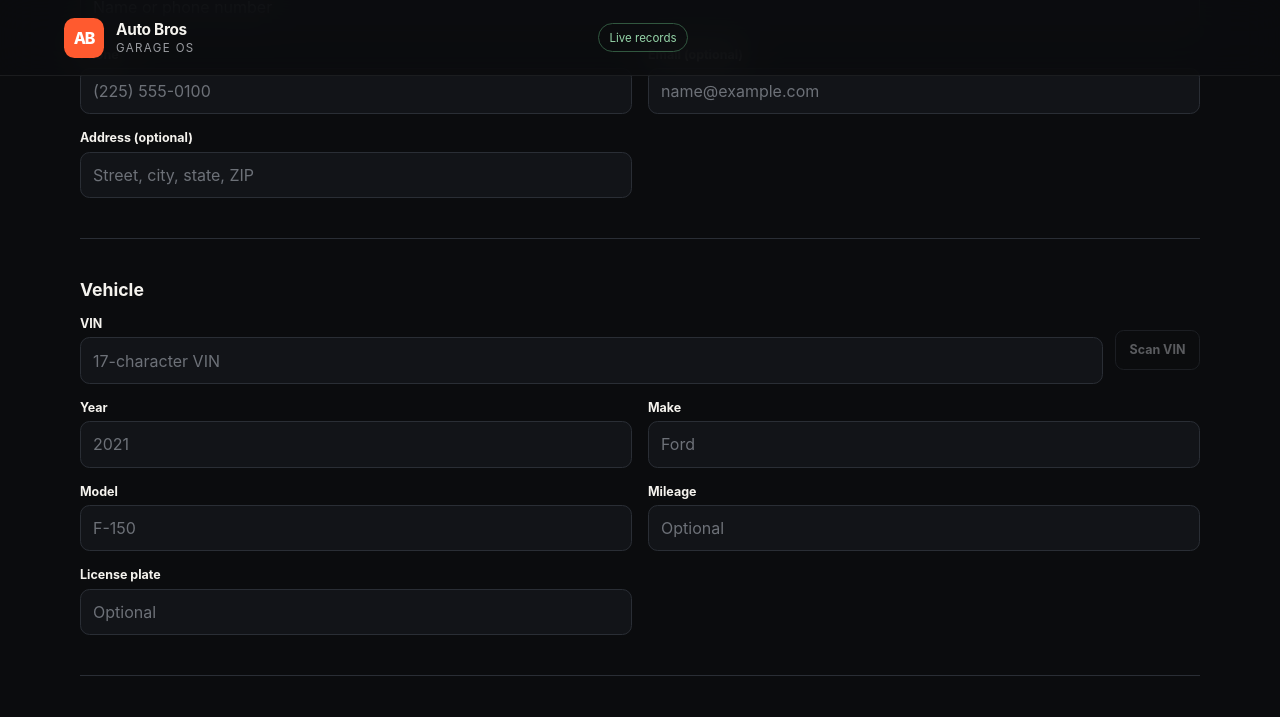
Test: CheckInPage › validates VIN format as the user types
(page scrolled)
Type "TOO-SHORT" into the field labelled "VIN" at (591, 361), box top-left (80, 338), bottom-right (1103, 384)
(page scrolled)
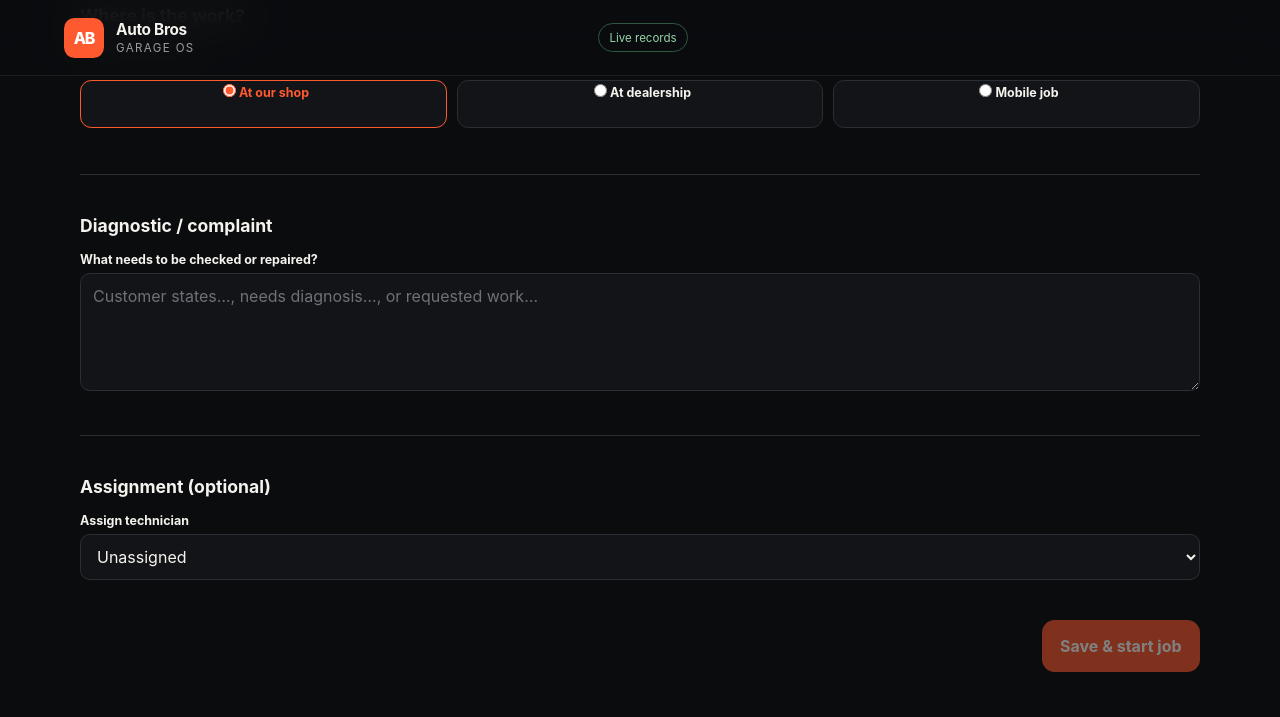
expect the button "Save & start job" is disabled: met, box top-left (1042, 620), bottom-right (1200, 672)
